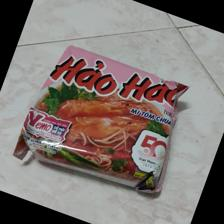Haohao: (11, 44, 186, 196)
